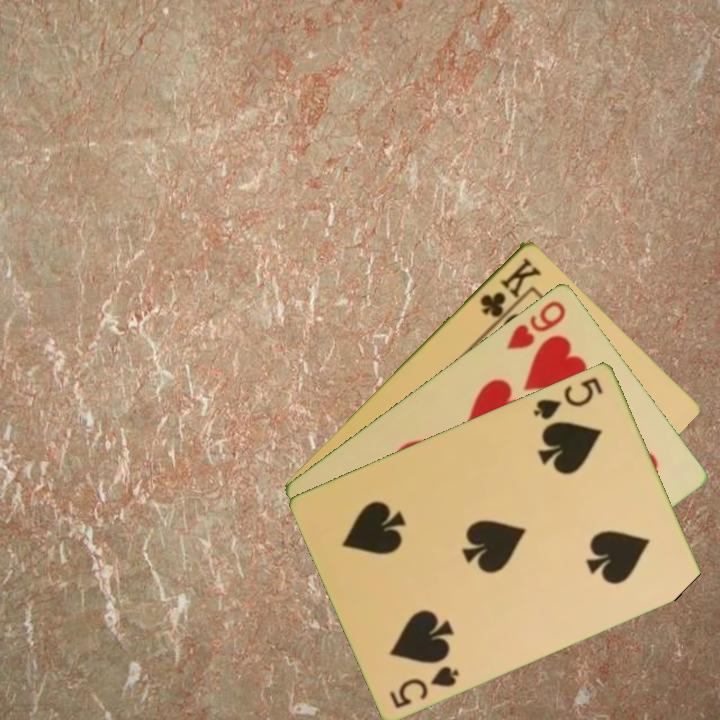5s: (386, 661, 463, 711), (529, 373, 606, 422)
9h: (503, 296, 569, 352)
Kc: (476, 252, 544, 320)
